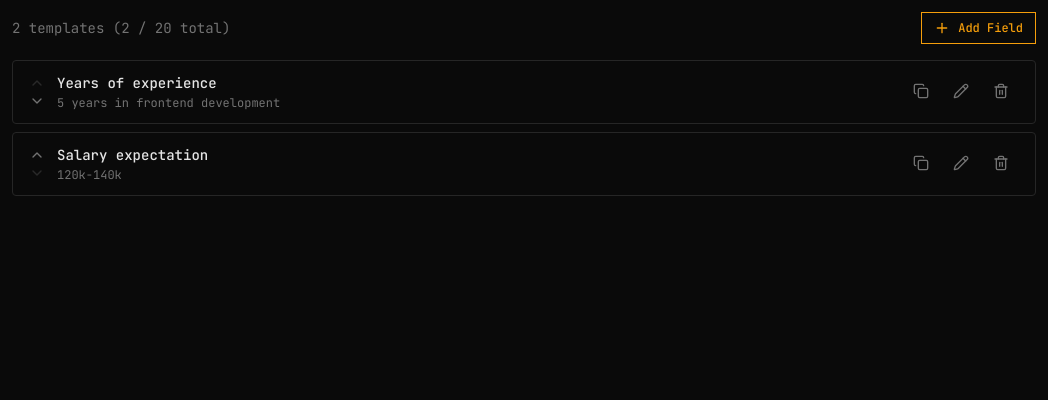
Test: TemplateList › enters edit mode when edit button clicked
Click the button named "Edit Years of experience": coordinates (961, 91) x1=943 y1=73 x2=979 y2=109
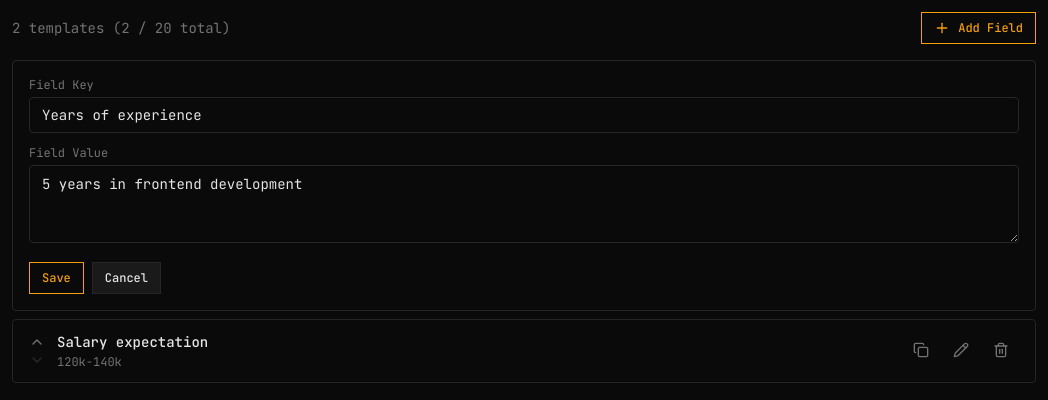
Expected: the field labelled "Field Key" is shown, x1=29 y1=97 x2=1019 y2=133
Expected: the text box labelled "Field Value" is shown, x1=29 y1=165 x2=1019 y2=243
